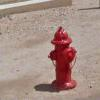Hydrant: (43, 22, 82, 88)
